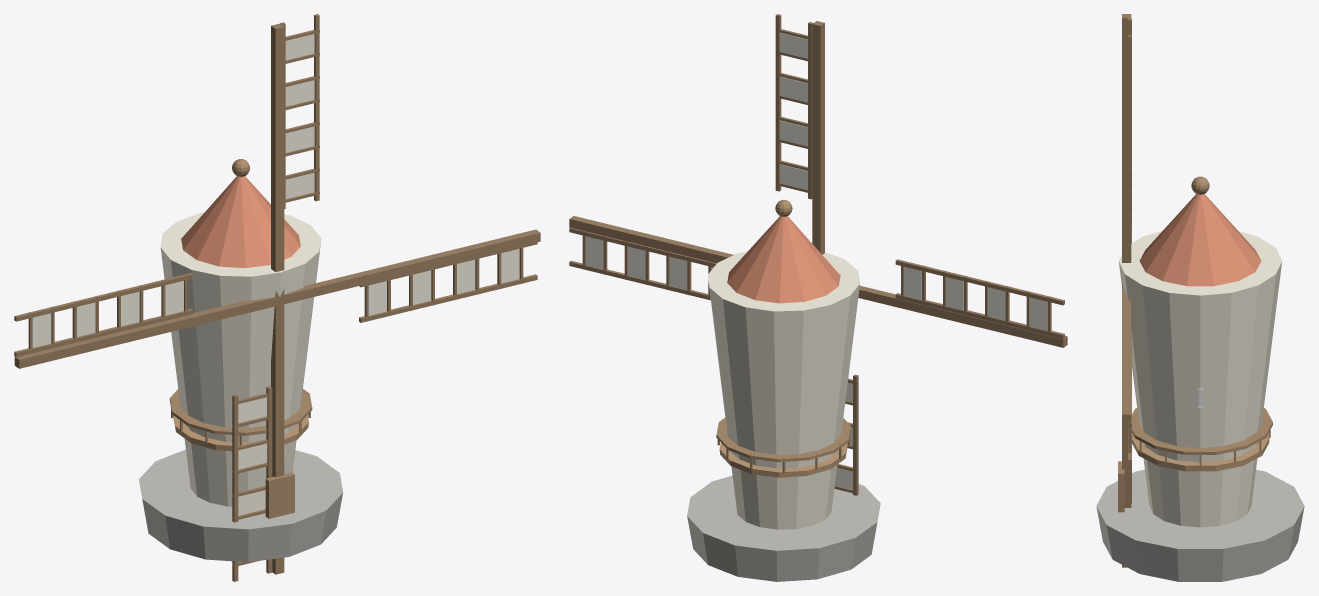
Rendered from windmill.glb.
3 renders of one model, left to right at view 1: azimuth 30°, elevation 25°; view 2: azimuth 150°, elevation 25°; view 3: azimuth 270°, elevation 25°, orthographic. The views are drawn at different scales.
Visible parts, largest first — view 1: windmill_body, blades; view 2: windmill_body, blades; view 3: windmill_body, blades.
Part boxes in pixels (x1,y1,x2,y2): windmill_body: [139, 159, 343, 562]; blades: [14, 14, 540, 581]; windmill_body: [687, 199, 880, 581]; blades: [569, 14, 1067, 495]; windmill_body: [1096, 176, 1304, 581]; blades: [1122, 14, 1131, 567].
Bounding box in the file's own units: 46 × 46 × 15.8.
